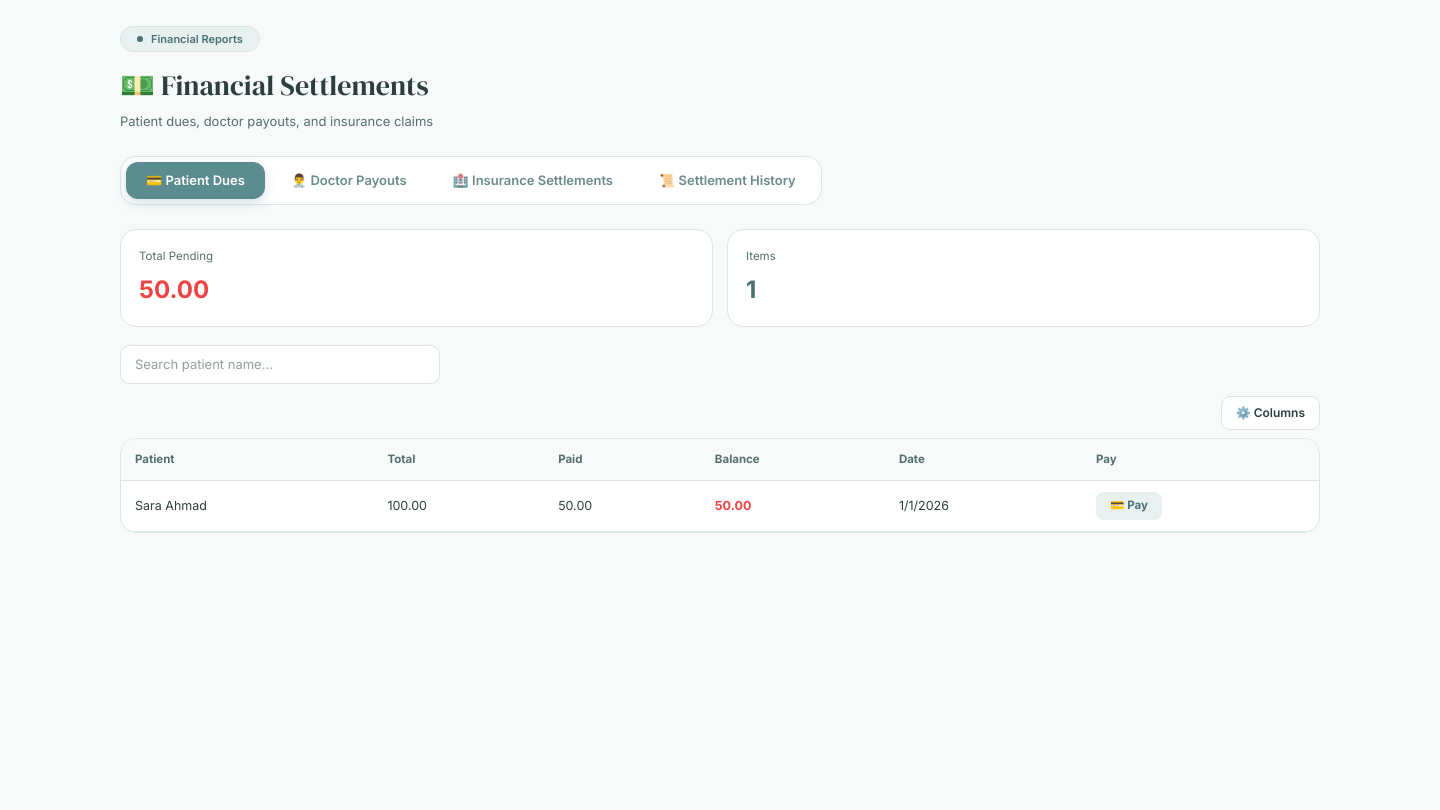
Test: Settlements › renders a patient due and opens the payment modal
Check: the text "Sara Ahmad" is shown, box x1=121 y1=481 x2=373 y2=531
Click the button "💳 Pay" at [1129, 506], box x1=1096 y1=492 x2=1162 y2=520
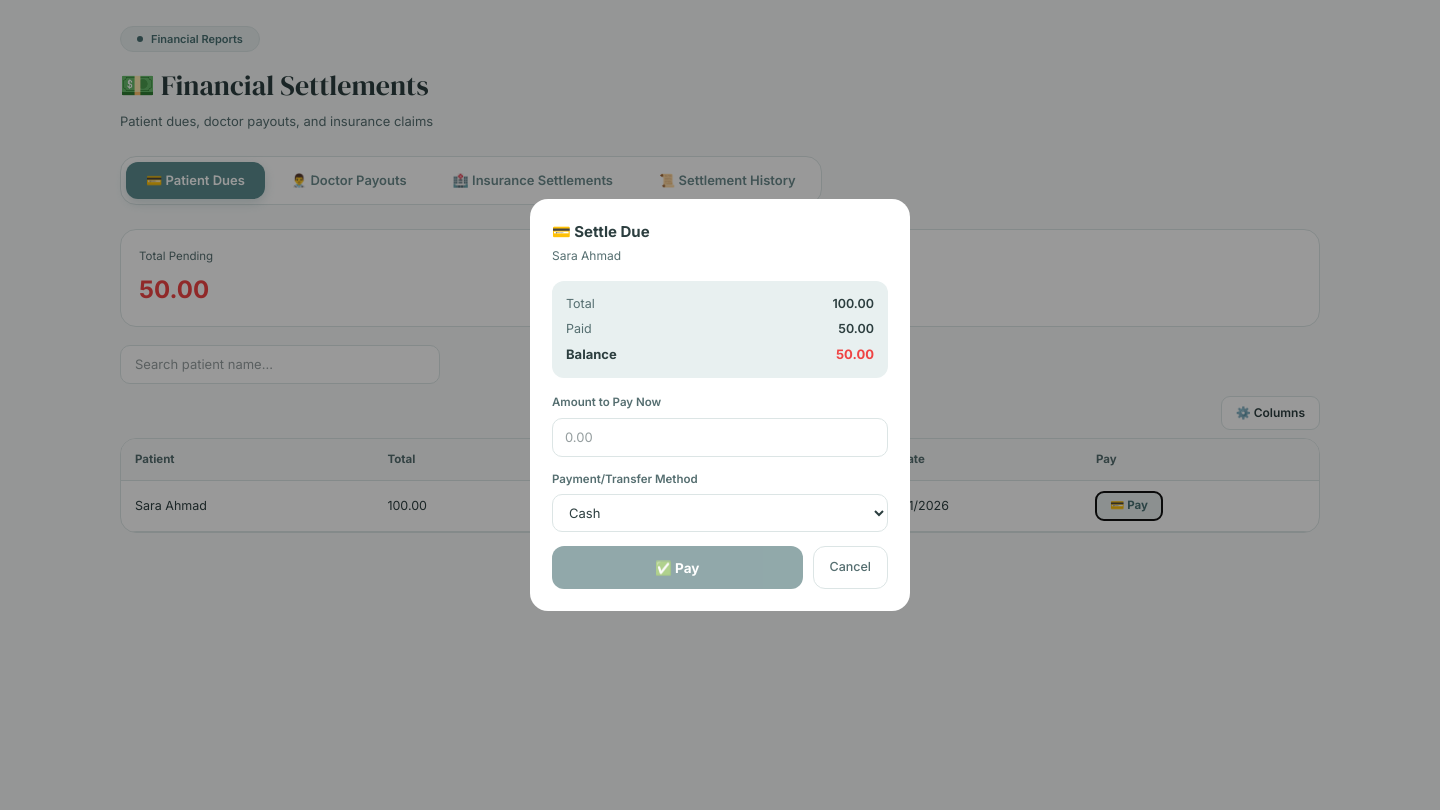
Check: the heading "💳 Settle Due" is shown, box x1=552 y1=222 x2=650 y2=241
